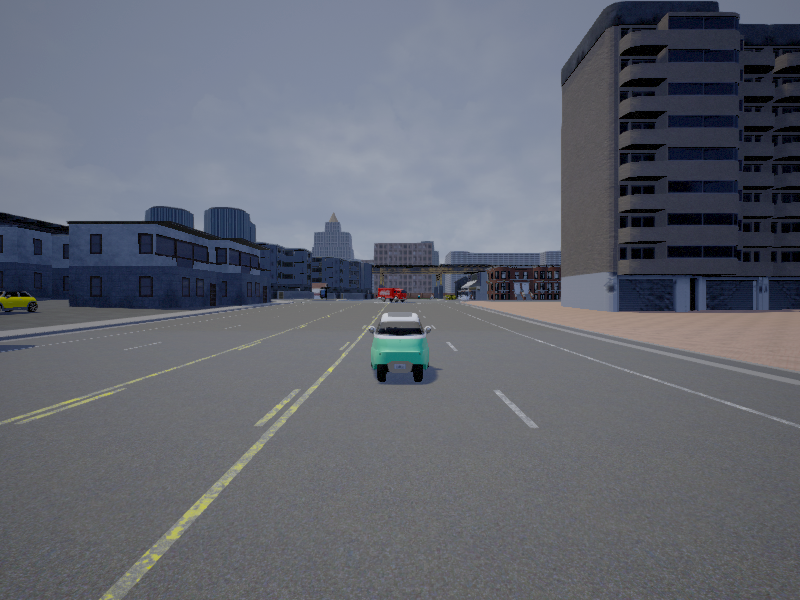Benign: (369, 313, 432, 384), (1, 287, 40, 310), (377, 289, 408, 304)
